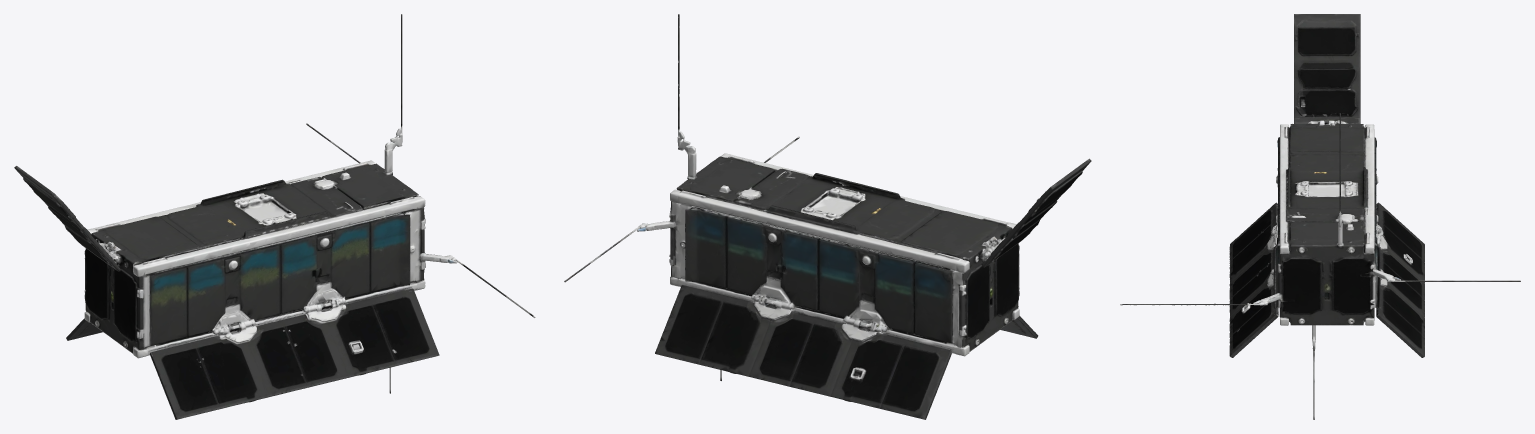
The model's file is ukube.glb.
3 views of the same model, side by side, from view 1: azimuth 30°, elevation 25°; view 2: azimuth 150°, elevation 25°; view 3: azimuth 270°, elevation 25° (orthographic). The views are drawn at different scales.
Bounding box in the file's own units: 1.85 × 1.66 × 1.9.
1 material, 1 textured.
